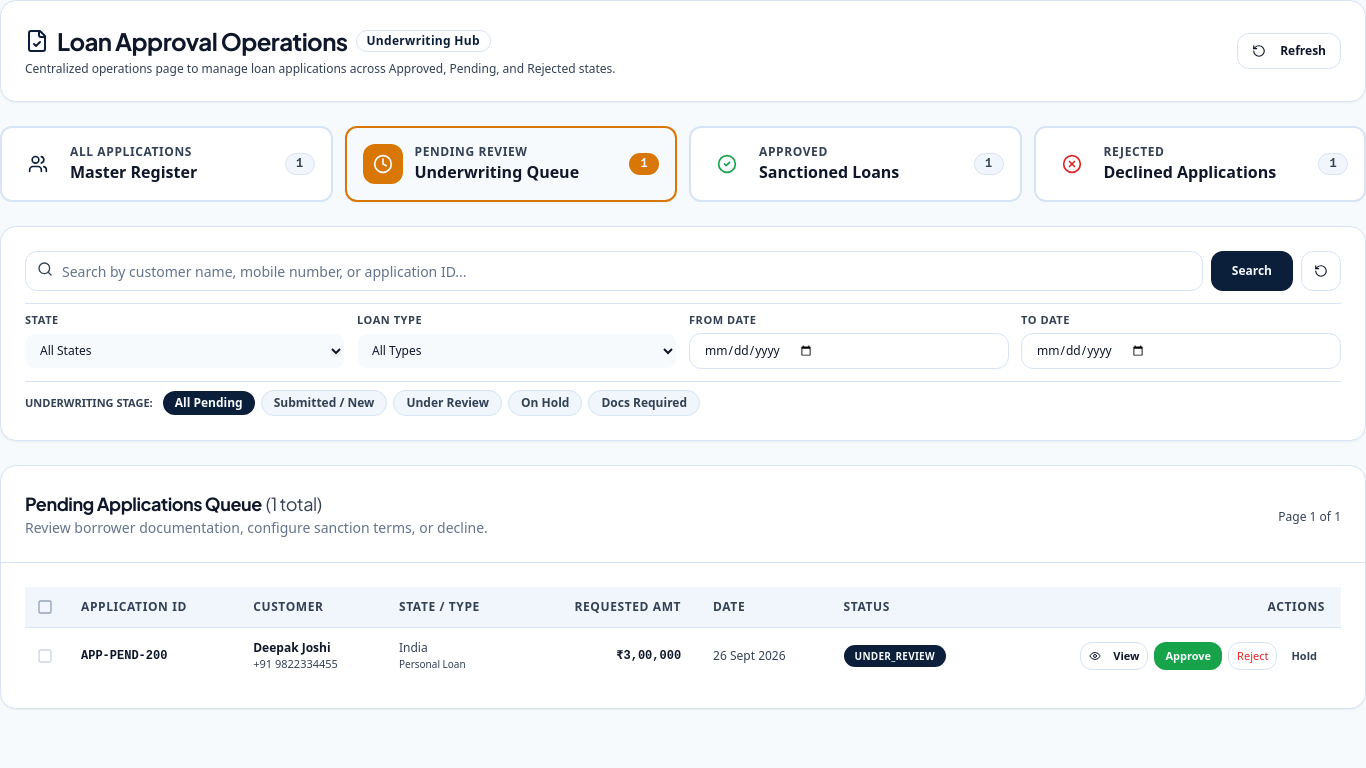
FINAL CHANGE 4/5: Loan Approval Operations & Documents Hub › 1. Dedicated Admin Loan Approval Operations Page (/admin/loan-approval) › opens Reject Modal with mandatory decline reasons and handles rejection
Check: the text "APP-PEND-200" is shown, box [65,627,237,684]
# Click Reject button
What coordinates should you click on to do the following:
click the button "Reject"
I would click on:
 (1253, 656)
Its box is [1228,642,1277,670].
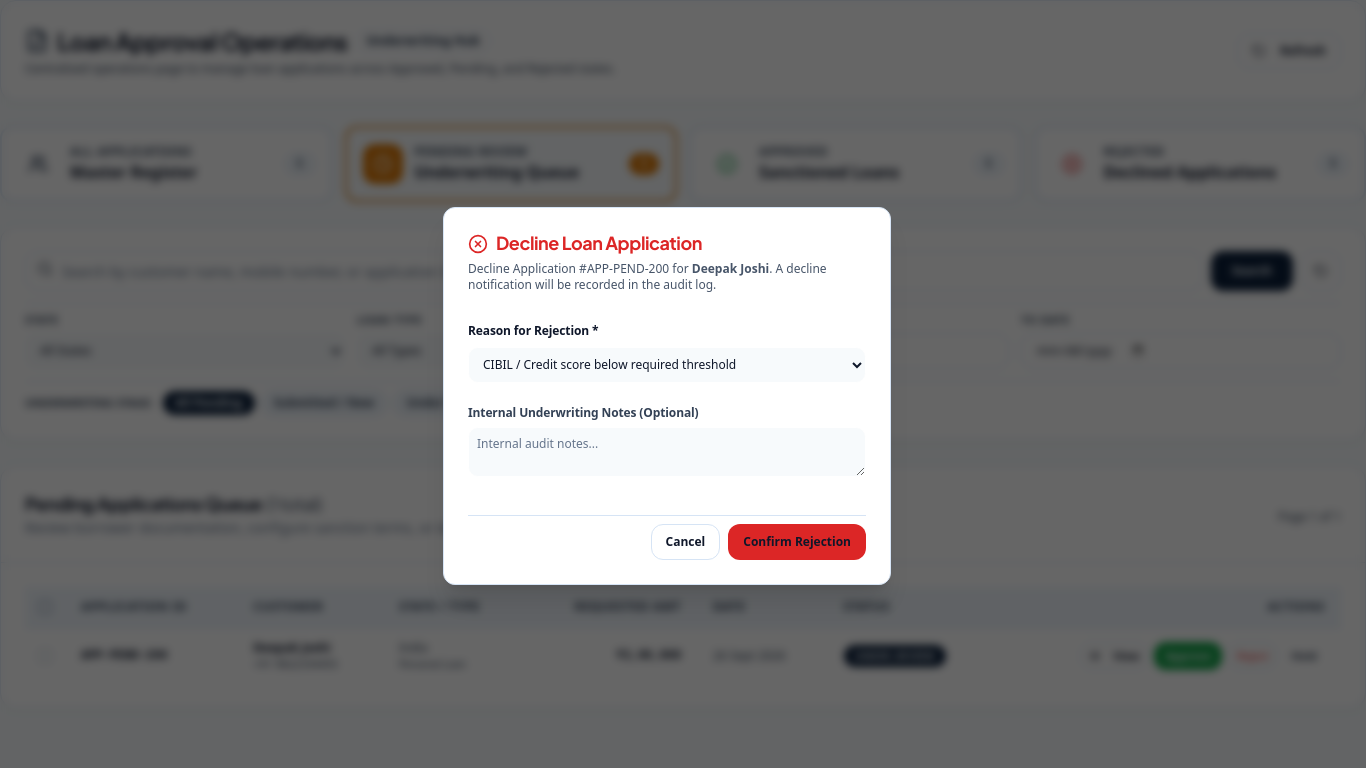
Check: the heading "Decline Loan Application" is shown, box [468,231,702,254]
Check: the text "Reason for Rejection *" is shown, box [468,322,598,339]
Check: the button "Confirm Rejection" is shown, box [728,524,866,560]
